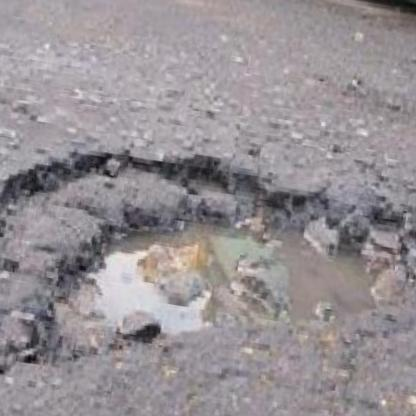pothole: (0, 116, 416, 416)
